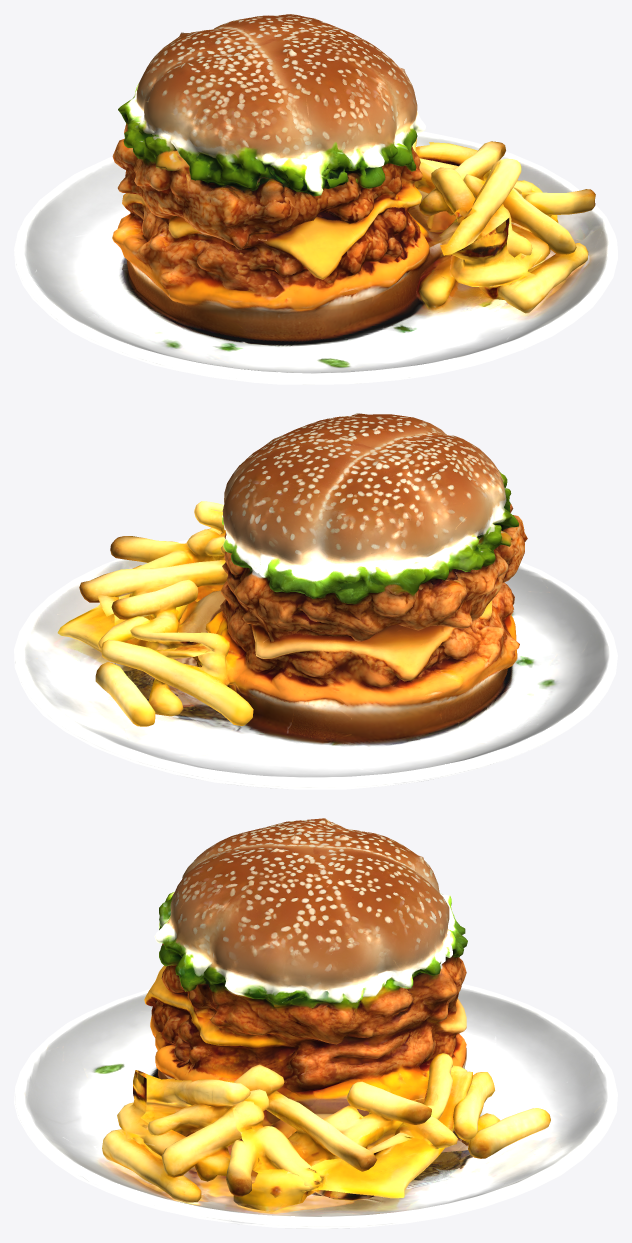
Rendered from burger.glb.
The picture shows the model from 3 angles, top to bottom: view 1: azimuth 30°, elevation 25°; view 2: azimuth 150°, elevation 25°; view 3: azimuth 270°, elevation 25°; orthographic projection.
Bounding box in the file's own units: 1.9 × 0.8924 × 1.91.
1 material, 1 textured.
